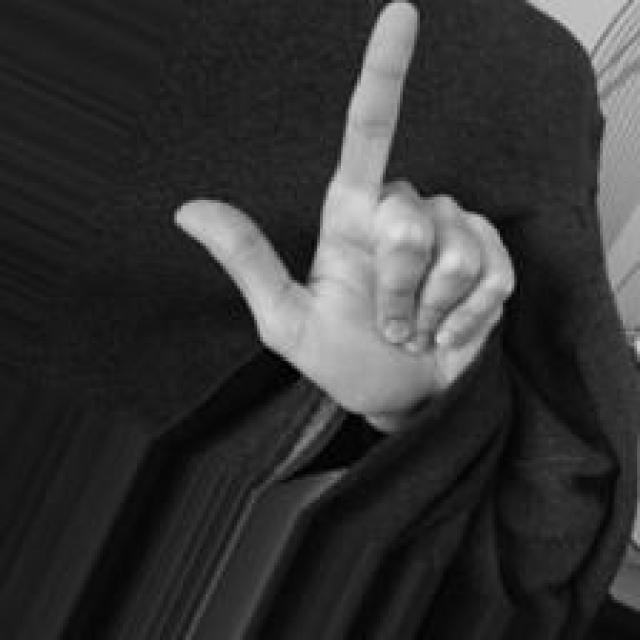L: (163, 3, 524, 417)
